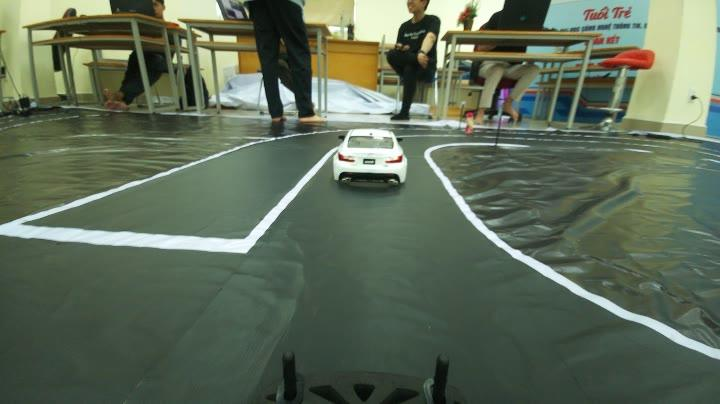car: (334, 123, 416, 190)
